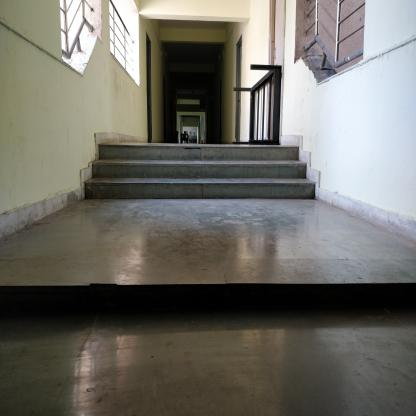stairs: (102, 143, 301, 204)
